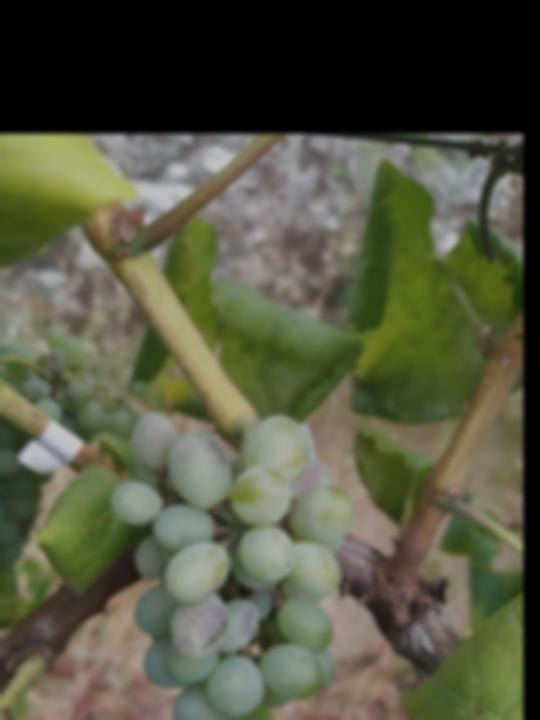grape: (107, 409, 356, 720)
